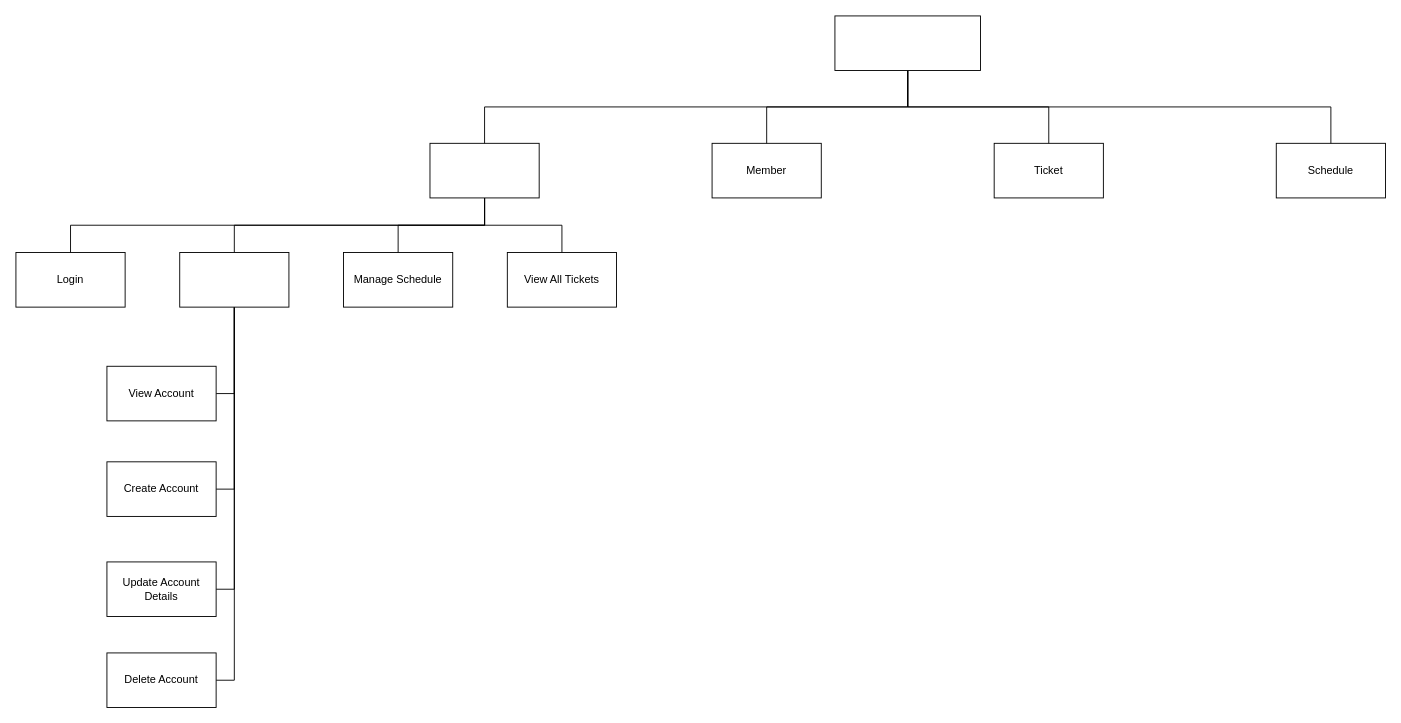
This 1401x723 diagram has some shape labels left out. Each missing label, with the box of its shape:
Manage Account (Staff & Member): (179, 252, 289, 307)
Staff: (429, 142, 539, 198)
Train Ticketing System: (834, 15, 981, 71)
